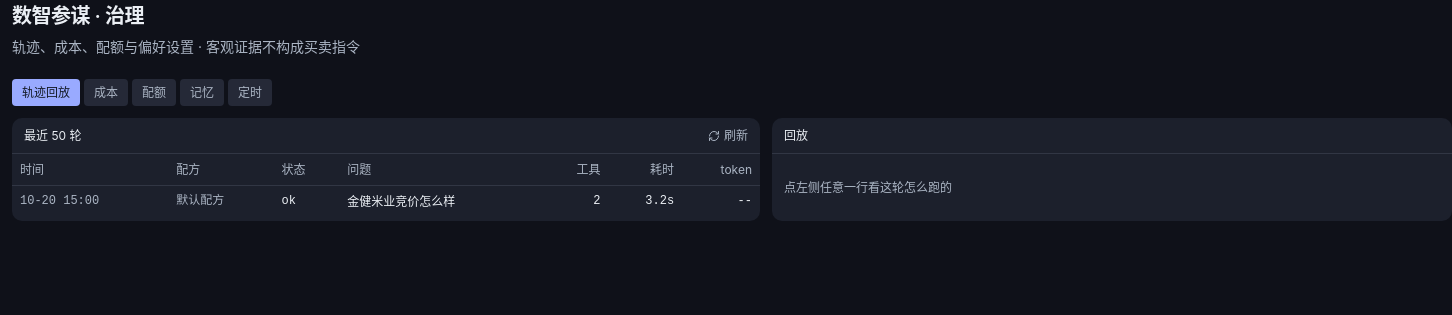
copilot governance › renders trace list and replays steps
This screenshot has width=1452, height=315.
Step 1. Click the text "金健米业竞价怎么样" → (441, 202), box [339,186,543,218]
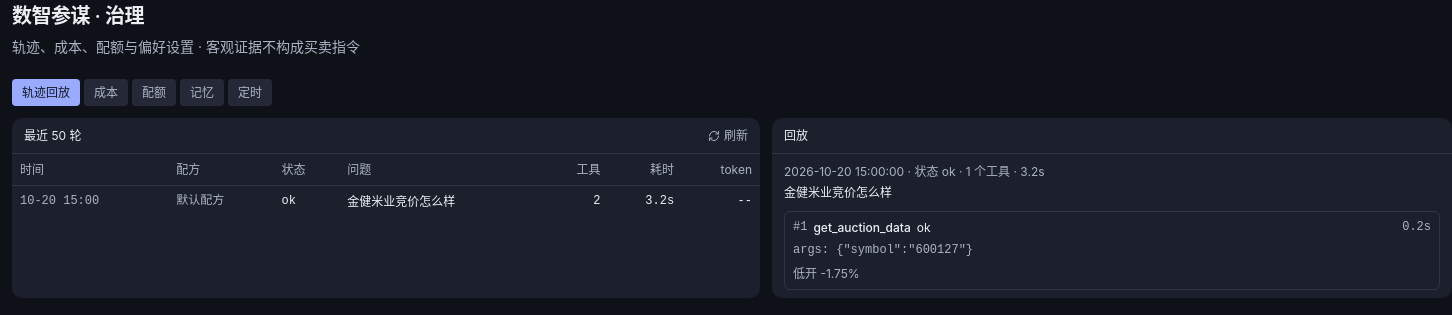
Expected: the text "get_auction_data" is shown, [813,218,911,237]
Expected: the text "低开 -1.75%" is shown, [793,266,860,281]
